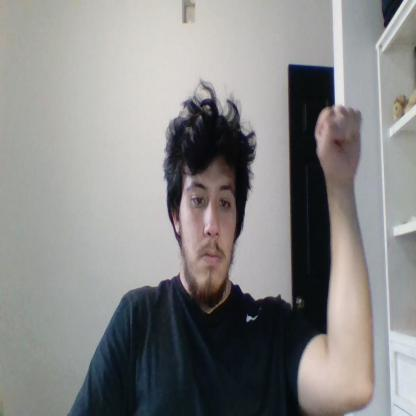S: (314, 104, 362, 180)
